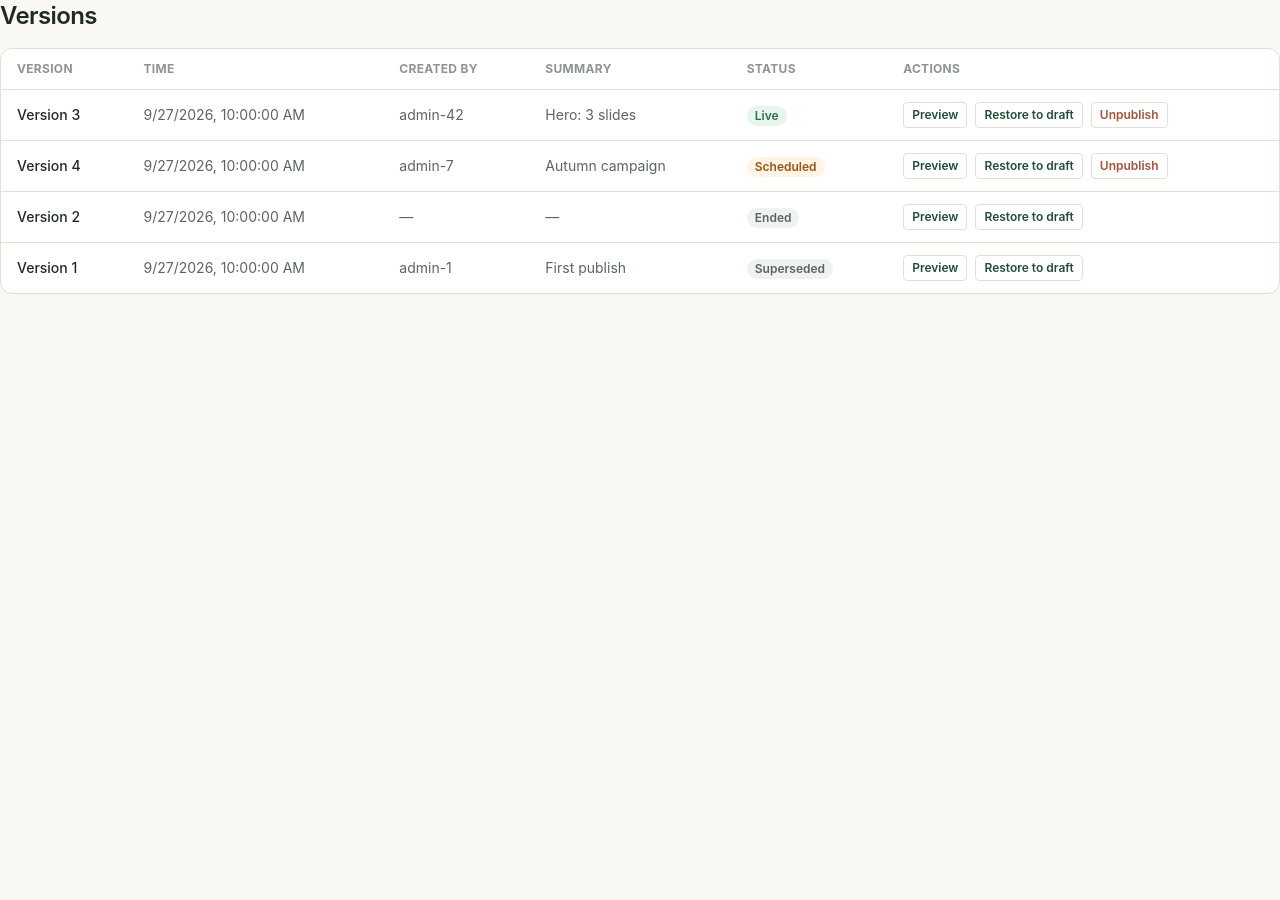
Scenario: HomepageVersionsPage › previews a version read-only with the hero and summary rows for other sections
Click the button "Preview" in the row of "Version 3": [935, 115] box x1=903 y1=102 x2=968 y2=128
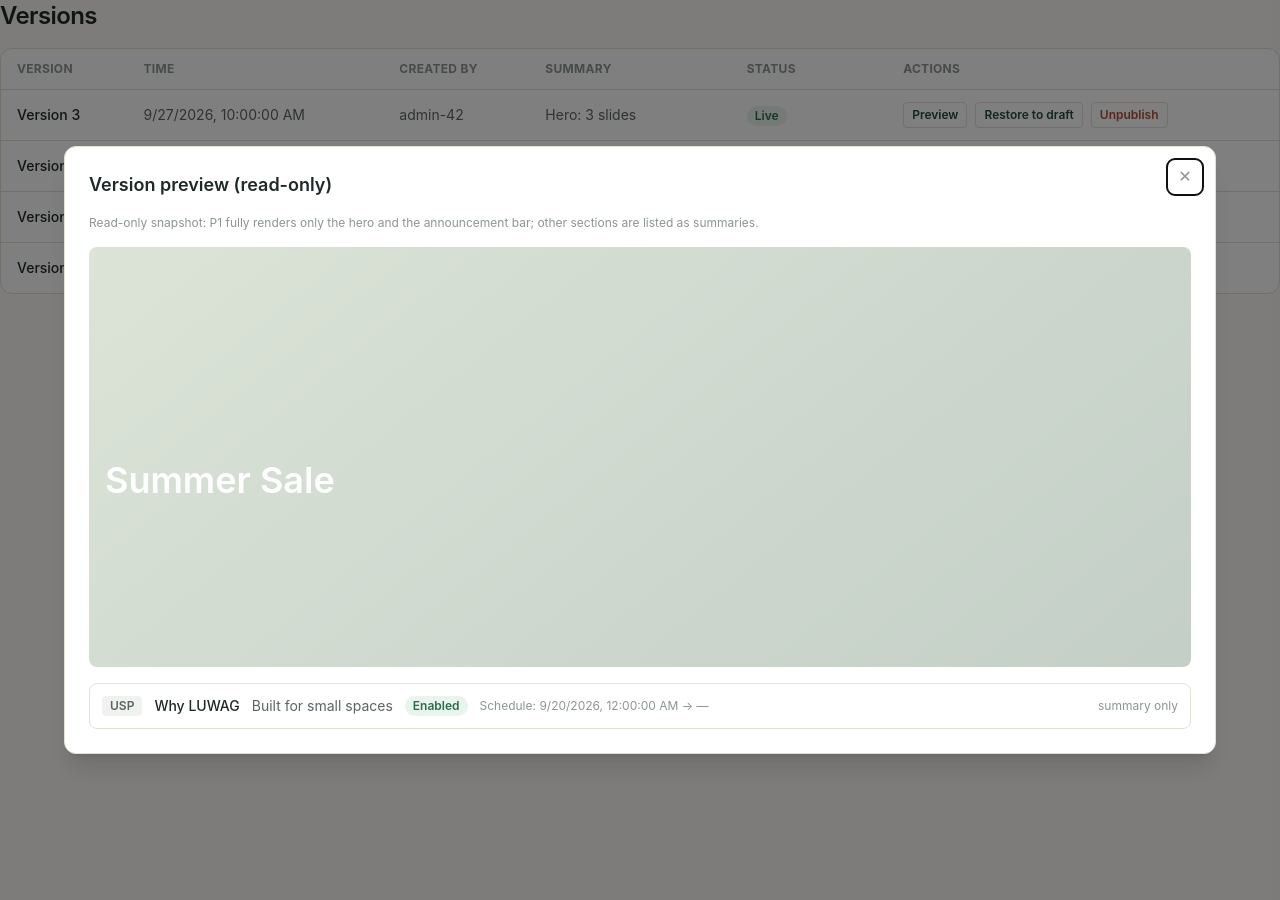
Result: the dialog "Version preview (read-only)" is shown
Result: the heading "Summer Sale" is shown at x1=105 y1=458 x2=335 y2=502
Result: the text "Read-only snapshot: P1 fully renders only the hero and the announcement bar; other sections are listed as summaries." is shown at x1=89 y1=215 x2=759 y2=230
